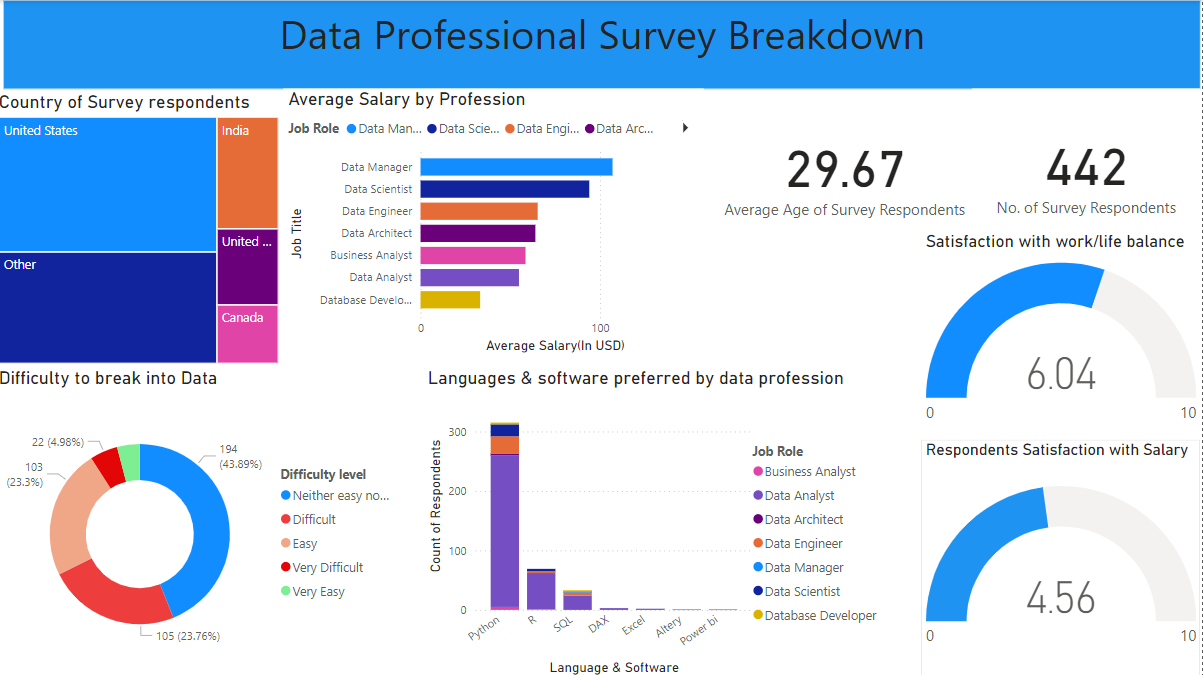

This screenshot's page, from the dashboard's own definition file:
{"tool":"powerbi","page":{"name":"Data Professional Survey","canvas":[1280,720],"ordinal":0},"visuals":[{"type":"textbox","box":[9.4,0,1269.9,94.5],"z":0},{"type":"card","fields":{"Values":["Count(Data Professional Survey.Unique ID)"]},"box":[1037.1,93.8,241.8,173.4],"z":1000},{"type":"card","fields":{"Values":["Avg(Data Professional Survey.Q10 - Current Age)"]},"box":[766.7,97,270.4,171.8],"z":2000},{"type":"barChart","title":"Average Salary by Profession","fields":{"Y":["Avg(Data Professional Survey.Average Salary(In USD))"],"Category":["Data Professional Survey.Q1 - Which Title Best Fits your Current Role?"],"Series":["Data Professional Survey.Q1 - Which Title Best Fits your Current Role?"]},"box":[307,93.8,445.4,284.7],"z":3000},{"type":"columnChart","title":"Languages & software preferred by data profession","fields":{"Category":["Data Professional Survey.Q5 - Favorite Programming Language"],"Y":["CountNonNull(Data Professional Survey.Unique ID)"],"Series":["Data Professional Survey.Q1 - Which Title Best Fits your Current Role?"]},"box":[455.4,389.3,495.1,330.7],"z":4000},{"type":"treemap","title":"Country of Survey respondents","fields":{"Group":["Data Professional Survey.Q11 - Which Country do you live in?.1"],"Values":["CountNonNull(Data Professional Survey.Q11 - Which Country do you live in?.1)"]},"box":[0,96.4,306.1,292.9],"z":5000},{"type":"gauge","title":"Respondents Satisfaction with Salary","fields":{"Y":["Avg(Data Professional Survey.Q6 - How Happy are you in your Current Position with the following? (Salary))"],"MinValue":["Min(Data Professional Survey.Q6 - How Happy are you in your Current Position with the following? (Salary))"],"MaxValue":["Max(Data Professional Survey.Q6 - How Happy are you in your Current Position with the following? (Salary))1"]},"box":[982.7,466.8,296.7,253.2],"z":6000},{"type":"gauge","title":"Satisfaction with work/life balance","fields":{"Y":["Avg(Data Professional Survey.Q6 - How Happy are you in your Current Position with the following? (Work/Life Balance))"],"MinValue":["Min(Data Professional Survey.Q6 - How Happy are you in your Current Position with the following? (Work/Life Balance))"],"MaxValue":["Max(Data Professional Survey.Q6 - How Happy are you in your Current Position with the following? (Work/Life Balance))"]},"box":[982.7,245.7,296.7,221.1],"z":7000},{"type":"donutChart","title":"Difficulty to break into Data","fields":{"Y":["CountNonNull(Data Professional Survey.Q7 - How difficult was it for you to break into Data?)"],"Category":["Data Professional Survey.Q7 - How difficult was it for you to break into Data?"]},"box":[0,389.3,436.5,330.7],"z":8000}]}

Visuals, with their boxes in screenshot pixels (x1, y1, x2, y2), scaled from the page's 1280x720 canvas onto the 1203x675 screenshot:
textbox: (9,0,1202,89)
card - Count(Data Professional Survey.Unique ID): (975,88,1202,250)
card - Avg(Data Professional Survey.Q10 - Current Age): (721,91,975,252)
"Average Salary by Profession" barChart: (289,88,707,355)
"Languages & software preferred by data profession" columnChart: (428,365,893,674)
"Country of Survey respondents" treemap: (0,90,288,365)
"Respondents Satisfaction with Salary" gauge: (924,438,1202,674)
"Satisfaction with work/life balance" gauge: (924,230,1202,438)
"Difficulty to break into Data" donutChart: (0,365,410,674)
